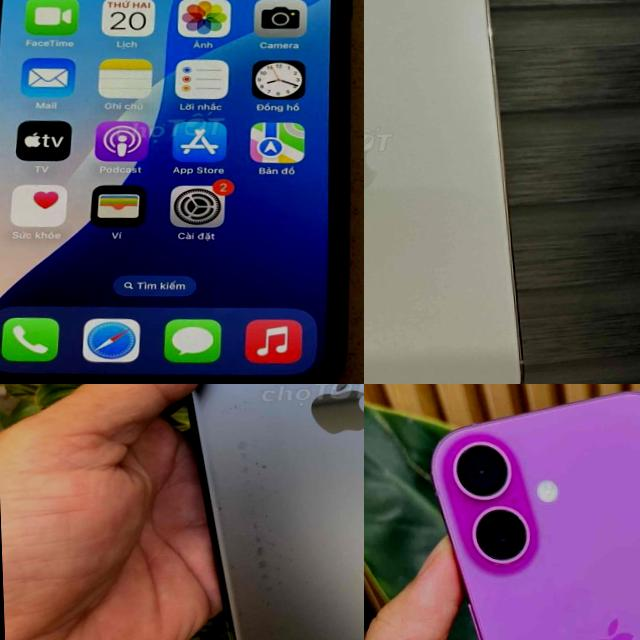scratch: (212, 394, 318, 618), (243, 629, 343, 640)
